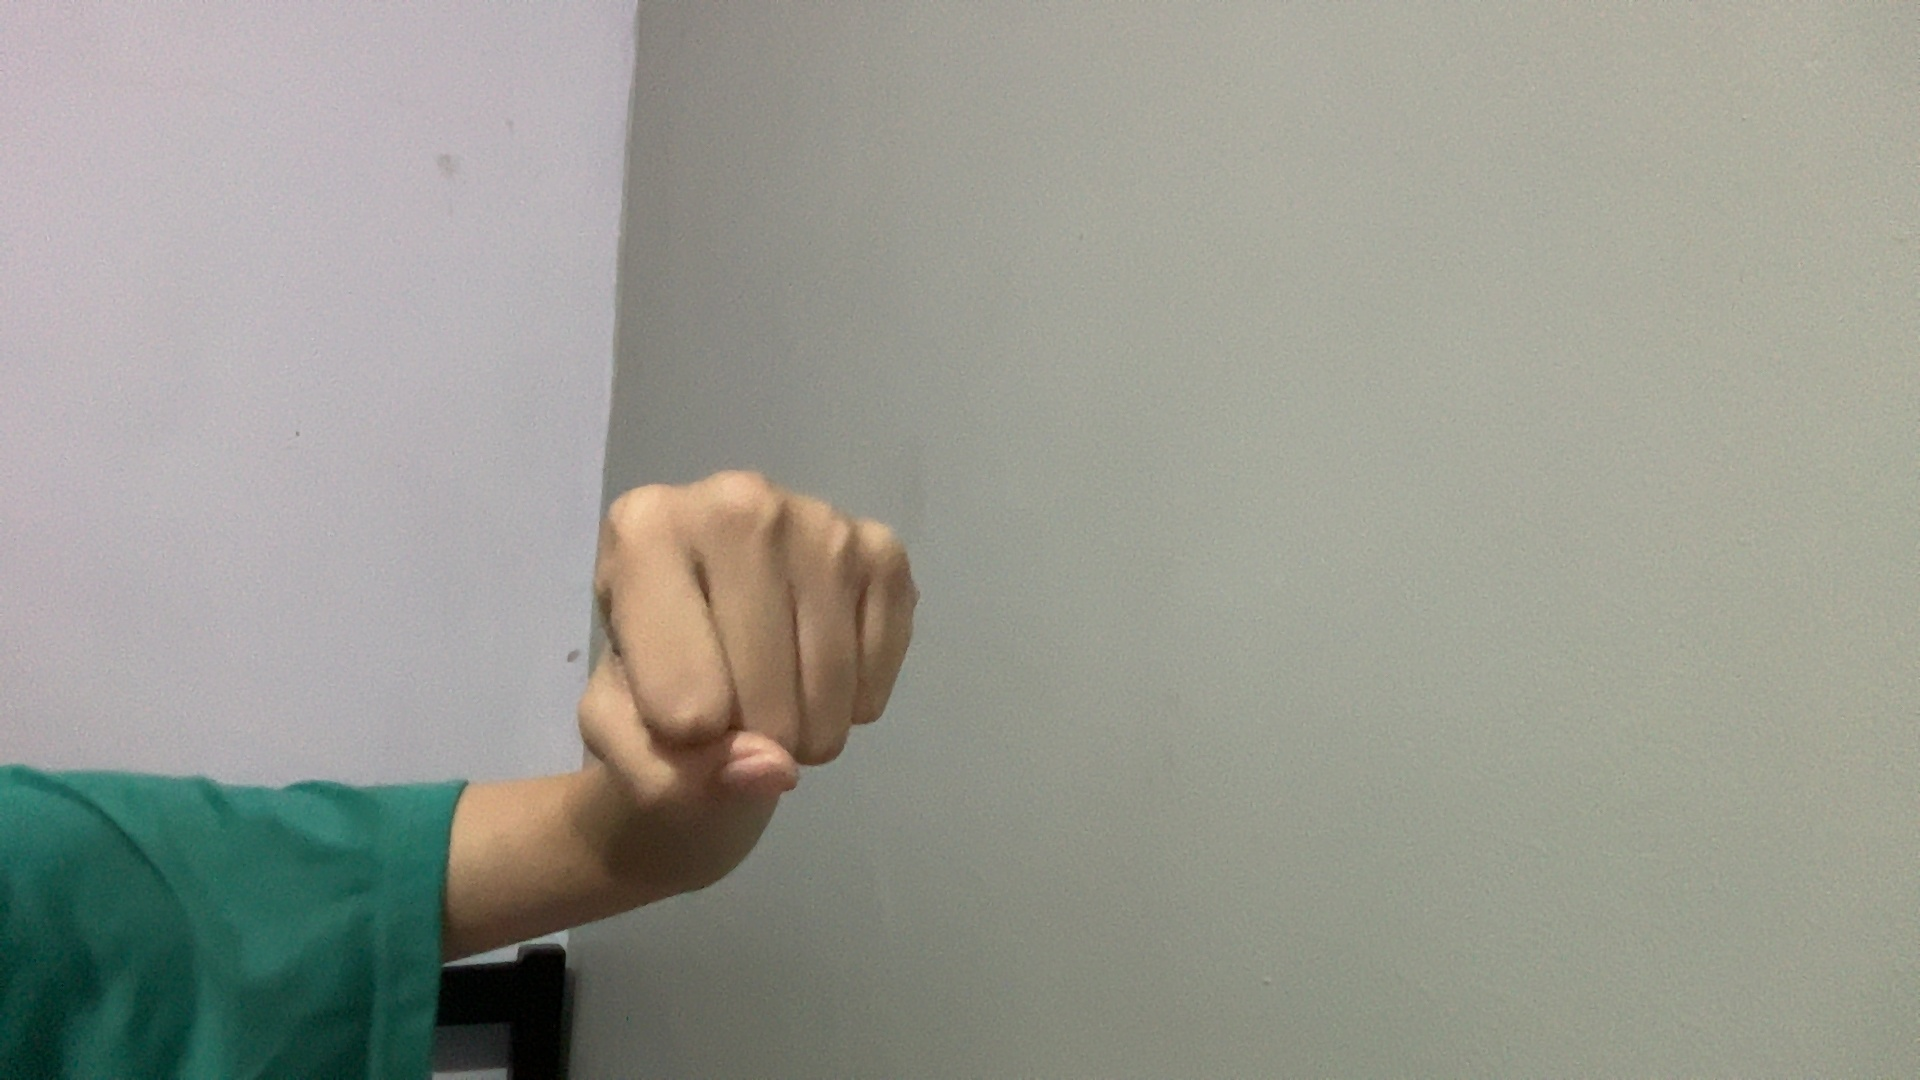Yes: (425, 305, 1163, 982)
